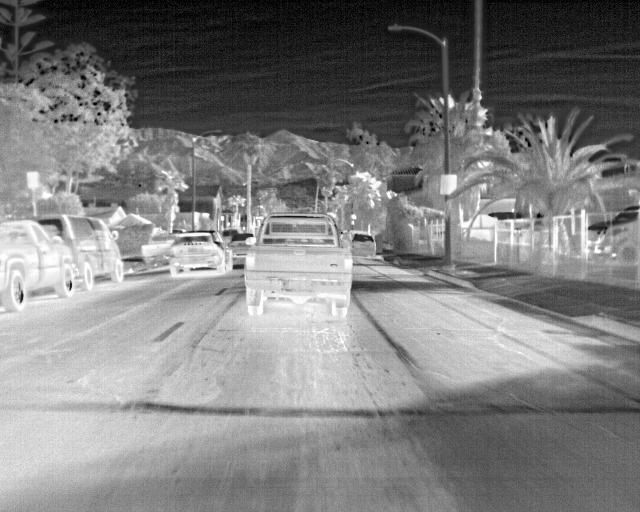car: (243, 212, 353, 318), (0, 218, 74, 313), (59, 214, 126, 291), (166, 230, 230, 277), (139, 232, 169, 272), (349, 232, 377, 260), (232, 233, 251, 265), (222, 226, 237, 243)
